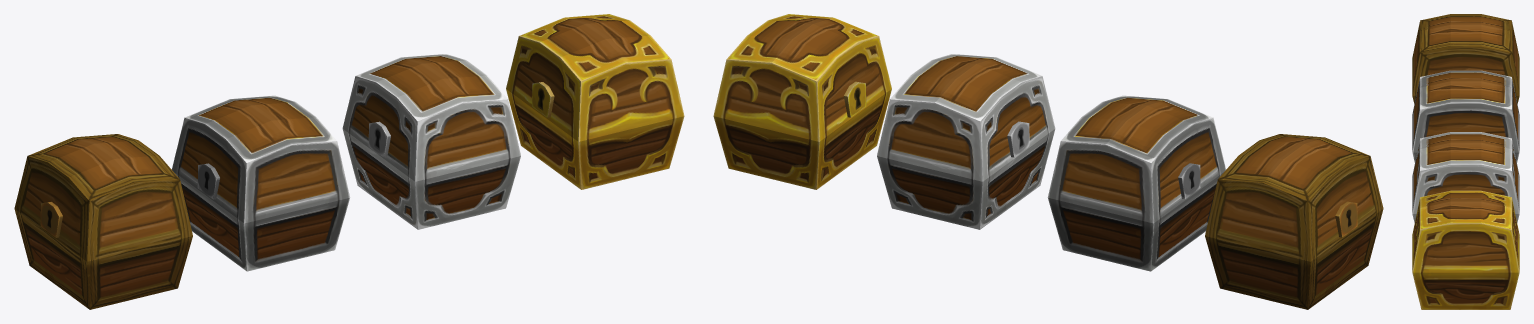
File: Item_Chest.FBX
The picture shows the model from 3 angles, left to right: view 1: azimuth 30°, elevation 25°; view 2: azimuth 150°, elevation 25°; view 3: azimuth 270°, elevation 25°; orthographic projection. The views are drawn at different scales.
Visible parts, largest first — view 1: Item_Chest_Gold, Item_Chest_Tree, Item_Chest_Silver, Item_Chest_Iron; view 2: Item_Chest_Gold, Item_Chest_Tree, Item_Chest_Silver, Item_Chest_Iron; view 3: Item_Chest_Gold, Item_Chest_Iron, Item_Chest_Silver, Item_Chest_Tree.
Boxes of the visible parts, <box> form: Item_Chest_Gold: <box>506,14,684,189</box>; Item_Chest_Tree: <box>14,134,192,309</box>; Item_Chest_Silver: <box>342,54,520,229</box>; Item_Chest_Iron: <box>172,95,350,271</box>; Item_Chest_Gold: <box>713,14,891,189</box>; Item_Chest_Tree: <box>1205,134,1383,309</box>; Item_Chest_Silver: <box>877,54,1055,229</box>; Item_Chest_Iron: <box>1047,95,1225,271</box>; Item_Chest_Gold: <box>1412,190,1519,309</box>; Item_Chest_Iron: <box>1412,70,1519,162</box>; Item_Chest_Silver: <box>1412,132,1519,222</box>; Item_Chest_Tree: <box>1412,14,1519,103</box>.
Bounding box in the file's own units: 4.48 × 0.8958 × 0.9396.
4 materials, 4 textured.
